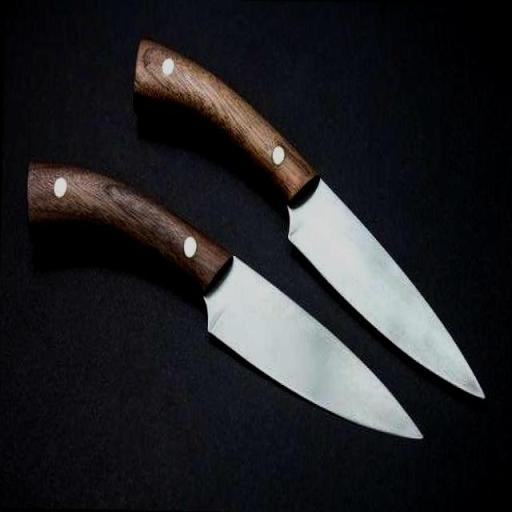knife: (16, 42, 498, 450)
